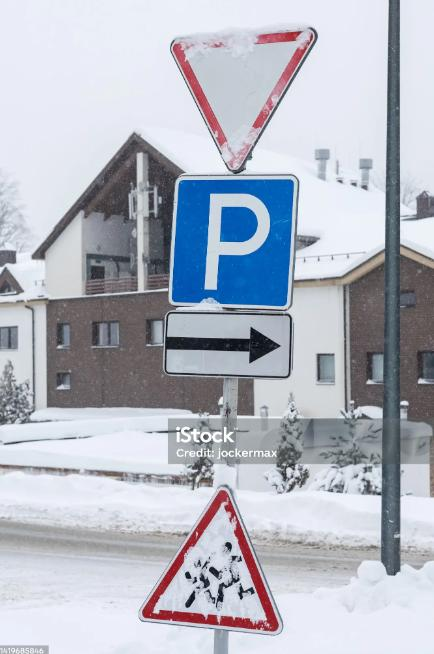obstructed_road_sign: (137, 486, 282, 630), (171, 29, 315, 172)
road_sign: (170, 177, 297, 307), (166, 312, 290, 376)
